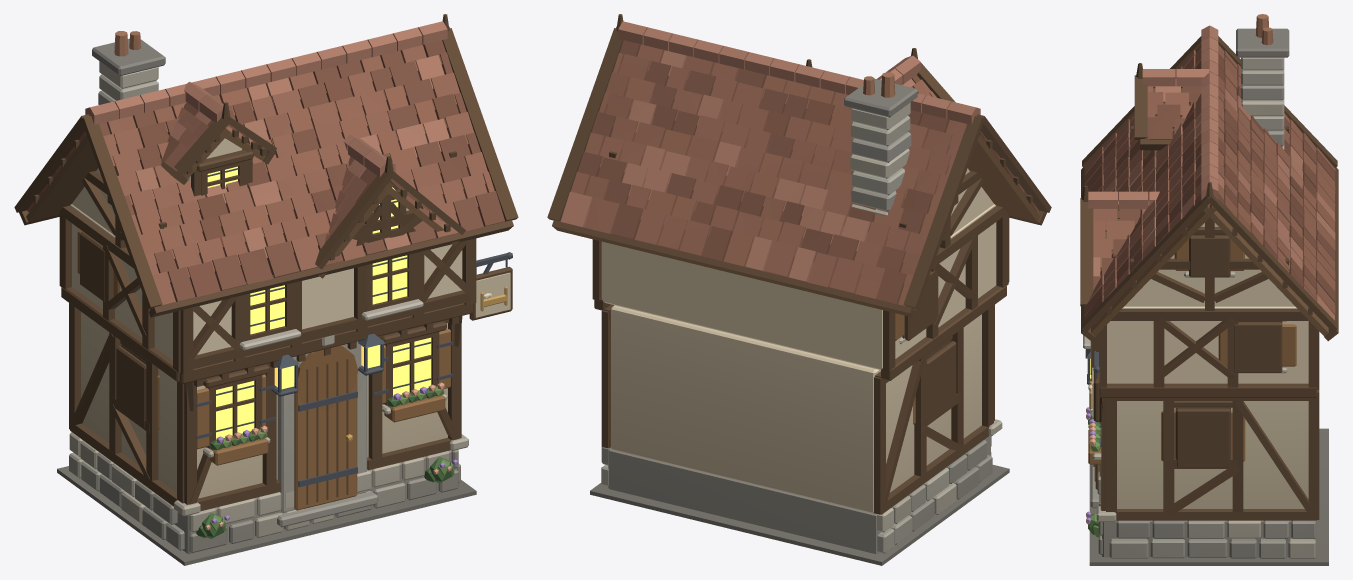
Rendered from hideout.glb.
3 views of the same model, side by side, from view 1: azimuth 30°, elevation 25°; view 2: azimuth 150°, elevation 25°; view 3: azimuth 270°, elevation 25° (orthographic). The views are drawn at different scales.
Visible parts, largest first — view 1: Structure_HV_timber, Roof_HV_hideout_slate, Roof_HV_hideout_slate_dark, Structure_HV_hideout_plaster, Roof_HV_timber, Roof_HV_hideout_slate_light, Facade_HV_timber, Facade_HV_door, Facade_HV_amber_glass, Structure_HV_stone0, Structure_HV_stone2, Structure_HV_stone_dark (+13 smaller); view 2: Structure_HV_hideout_plaster, Roof_HV_hideout_slate, Structure_HV_timber, Roof_HV_hideout_slate_dark, Roof_HV_hideout_slate_light, Structure_HV_stone0, Roof_HV_timber, Structure_HV_stone_dark, Facade_HV_timber, Roof_HV_oak, Roof_HV_stone2, Roof_HV_stone1 (+4 smaller); view 3: Structure_HV_hideout_plaster, Structure_HV_timber, Roof_HV_hideout_slate, Roof_HV_hideout_slate_dark, Roof_HV_hideout_slate_light, Roof_HV_timber, Facade_HV_timber, Structure_HV_stone0, Structure_HV_stone_dark, Roof_HV_oak, Structure_HV_stone1, Facade_HV_door (+6 smaller).
Part boxes in pixels (x1,y1,x2,y2): Structure_HV_timber: (59, 149, 476, 511); Roof_HV_hideout_slate: (27, 45, 494, 305); Roof_HV_hideout_slate_dark: (99, 40, 504, 301); Structure_HV_hideout_plaster: (70, 138, 462, 498); Roof_HV_timber: (14, 14, 518, 317); Roof_HV_hideout_slate_light: (85, 21, 449, 257); Facade_HV_timber: (80, 150, 512, 448); Facade_HV_door: (77, 229, 450, 510); Facade_HV_amber_glass: (207, 166, 431, 439); Structure_HV_stone0: (97, 450, 458, 554); Structure_HV_stone2: (69, 432, 468, 537); Structure_HV_stone_dark: (57, 466, 476, 565); Structure_HV_hideout_plaster: (601, 168, 996, 513); Roof_HV_hideout_slate: (570, 44, 1038, 306); Structure_HV_timber: (592, 151, 1009, 514); Roof_HV_hideout_slate_dark: (577, 40, 1010, 303); Roof_HV_hideout_slate_light: (559, 21, 980, 281); Structure_HV_stone0: (601, 436, 992, 553); Roof_HV_timber: (547, 14, 1051, 317); Structure_HV_stone_dark: (590, 465, 1009, 565); Facade_HV_timber: (902, 195, 958, 423); Roof_HV_oak: (612, 135, 1039, 310); Roof_HV_stone2: (850, 102, 910, 217); Roof_HV_stone1: (851, 115, 910, 195); Structure_HV_hideout_plaster: (1107, 223, 1308, 508); Structure_HV_timber: (1090, 126, 1319, 520); Roof_HV_hideout_slate: (1084, 44, 1335, 314); Roof_HV_hideout_slate_dark: (1084, 44, 1335, 320); Roof_HV_hideout_slate_light: (1088, 25, 1335, 320); Roof_HV_timber: (1080, 36, 1338, 341); Facade_HV_timber: (1093, 150, 1286, 467); Structure_HV_stone0: (1098, 520, 1316, 558); Structure_HV_stone_dark: (1089, 428, 1328, 565); Roof_HV_oak: (1091, 88, 1328, 336); Structure_HV_stone1: (1109, 520, 1285, 558); Facade_HV_door: (1088, 239, 1296, 489).
Size of the model in its own units: 4.05 by 4.79 by 2.61.
